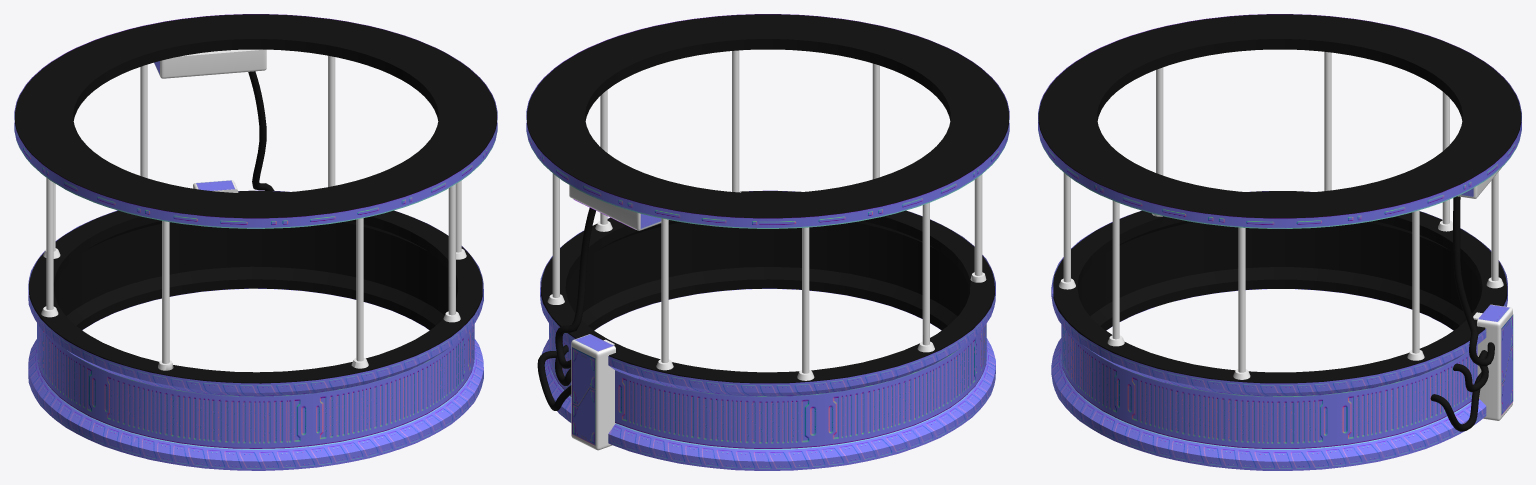
File: S_assete_fan_partie_1.fbx
3 renders of one model, left to right at view 1: azimuth 30°, elevation 25°; view 2: azimuth 150°, elevation 25°; view 3: azimuth 270°, elevation 25°, orthographic.
Visible parts, largest first — view 1: Tube004; view 2: Tube004; view 3: Tube004.
Part boxes in pixels (x1,y1,x2,y2): Tube004: (14,14,497,470); Tube004: (526,14,1009,470); Tube004: (1038,14,1521,470).
Bounding box in the file's own units: 401 × 241 × 401.
